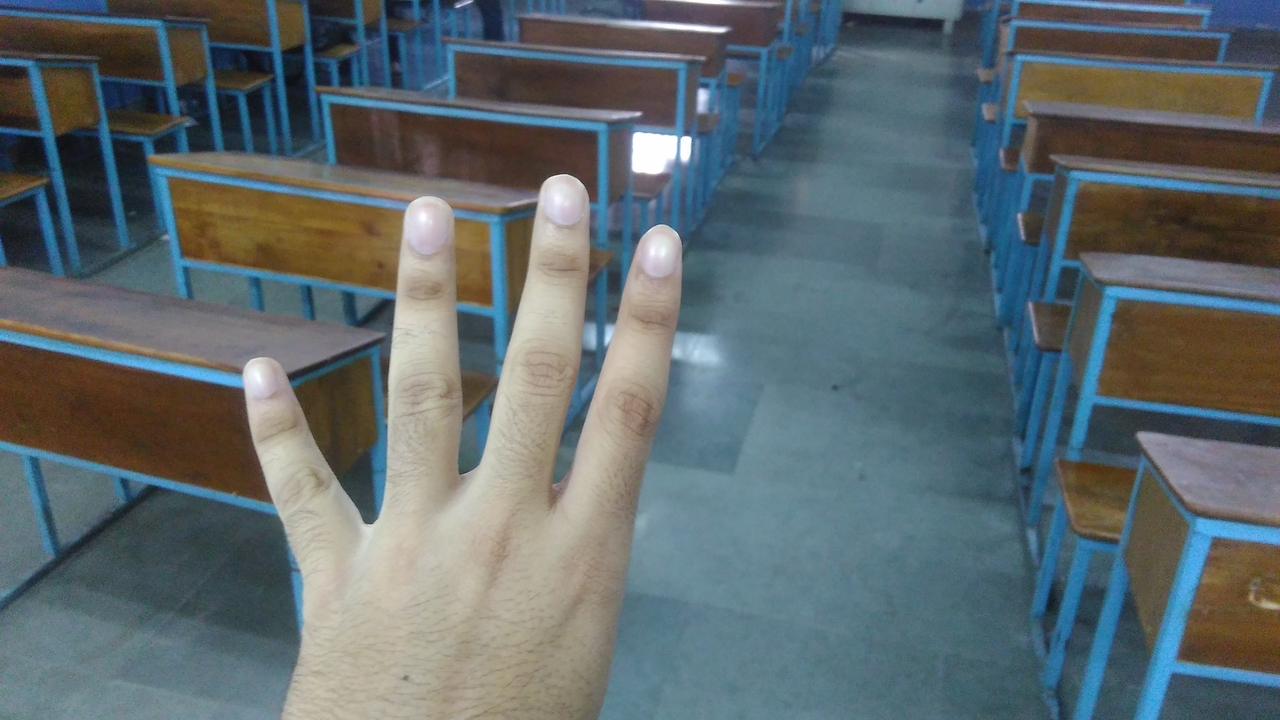fingertip: (392, 190, 458, 258), (222, 352, 292, 416), (528, 170, 592, 238), (626, 218, 690, 284)
